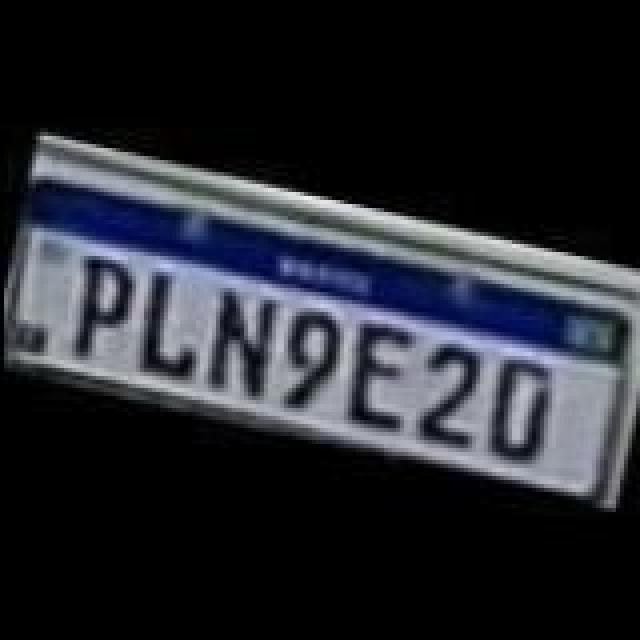2: (396, 336, 488, 452)
9: (266, 302, 350, 418)
D: (480, 348, 556, 460)
E: (338, 314, 422, 430)
L: (128, 266, 216, 386)
N: (196, 282, 284, 394)
P: (62, 248, 138, 360)
